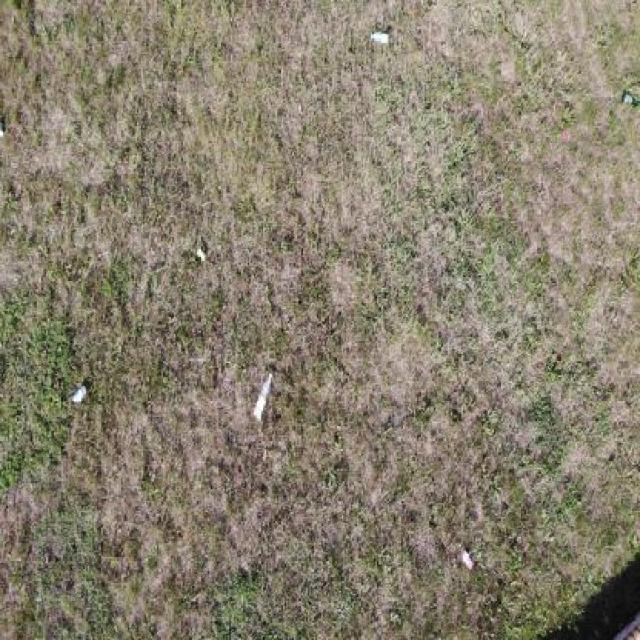Garbage: (252, 372, 272, 420), (459, 547, 474, 572), (370, 31, 389, 45), (73, 386, 88, 403), (622, 92, 639, 105), (197, 248, 206, 261), (0, 121, 4, 137)
